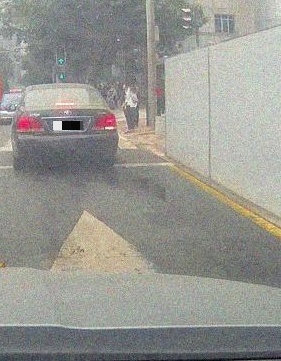L_light: (16, 115, 45, 133)
R_light: (92, 114, 117, 130)
T_light: (54, 102, 75, 106)
day-right: (15, 84, 117, 168)
plate_1: (53, 121, 83, 130)
